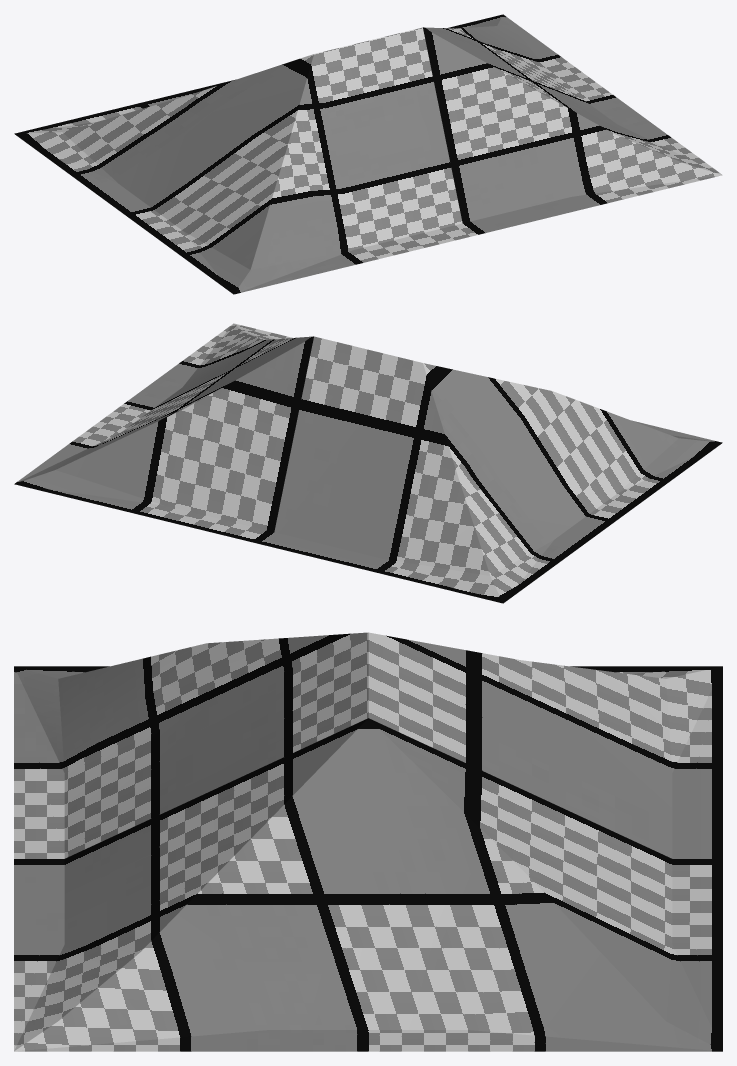
The model's file is roof_7002131.glb.
3 renders of one model, top to bottom at view 1: azimuth 30°, elevation 25°; view 2: azimuth 150°, elevation 25°; view 3: azimuth 270°, elevation 25°, orthographic. The views are drawn at different scales.
Visible parts, largest first — view 1: mesh; view 2: mesh; view 3: mesh.
Boxes of the visible parts, x1,y1,x2,y2 form: mesh: [14, 14, 722, 294]; mesh: [14, 323, 722, 603]; mesh: [14, 632, 722, 1051].
Bounding box in the file's own units: 18 × 4 × 14.
1 material, 1 textured.
